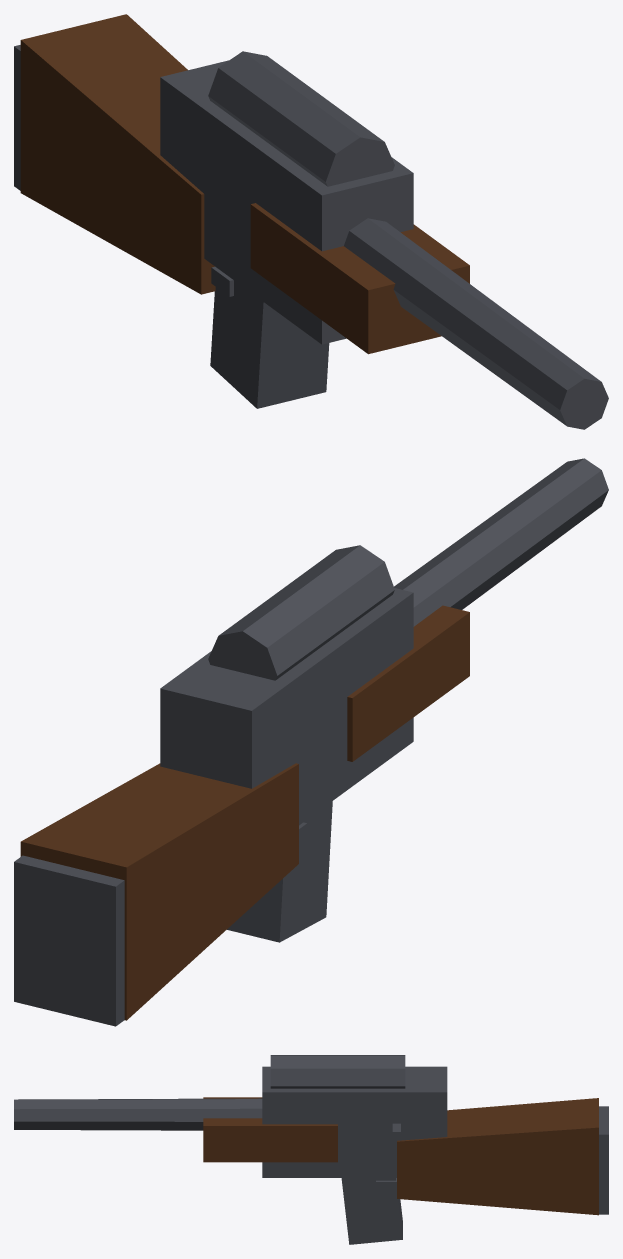
Rendered from launcher.obj.
The picture shows the model from 3 angles, top to bottom: view 1: azimuth 30°, elevation 25°; view 2: azimuth 150°, elevation 25°; view 3: azimuth 270°, elevation 25°; orthographic projection. The views are drawn at different scales.
Size of the model in its own units: 0.1811 by 0.4235 by 1.27.
